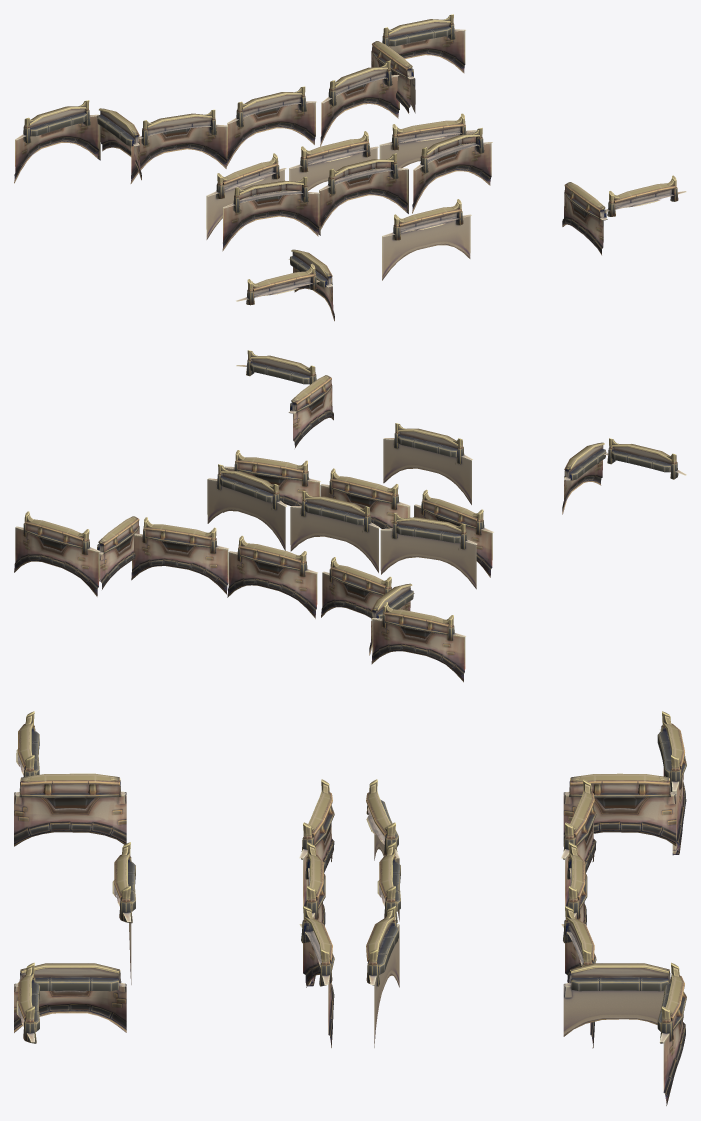
Rendered from CombinedMeshes_CombinedArch.fbx.
3 views of the same model, one above another, from view 1: azimuth 30°, elevation 25°; view 2: azimuth 150°, elevation 25°; view 3: azimuth 270°, elevation 25° (orthographic). The views are drawn at different scales.
Visible parts, largest first — view 1: CombinedMeshes_CombinedArch; view 2: CombinedMeshes_CombinedArch; view 3: CombinedMeshes_CombinedArch.
Part boxes in pixels (x1,y1,x2,y2): CombinedMeshes_CombinedArch: [14, 14, 686, 321]; CombinedMeshes_CombinedArch: [14, 350, 686, 682]; CombinedMeshes_CombinedArch: [14, 711, 686, 1105].
Bounding box in the file's own units: 3349 × 481 × 3041.
Materials: 1 (1 with a texture image).
